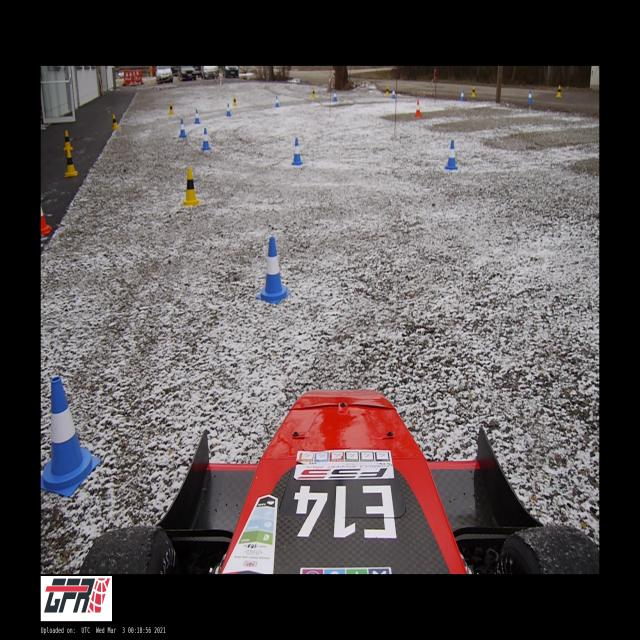blue_cone: (41, 378, 100, 497), (256, 237, 291, 304), (445, 140, 458, 170), (292, 138, 303, 165), (202, 128, 210, 150), (180, 120, 186, 138), (194, 109, 200, 123), (226, 104, 232, 115), (528, 90, 532, 102), (275, 96, 279, 107), (333, 90, 337, 101), (460, 90, 464, 101), (392, 88, 396, 98)
orange_cone: (40, 205, 50, 233), (414, 100, 421, 116)
yellow_cone: (181, 168, 201, 206), (65, 148, 78, 176), (63, 130, 73, 150), (112, 114, 118, 129), (168, 102, 174, 115), (556, 85, 562, 97), (232, 95, 237, 106), (472, 86, 476, 97), (312, 87, 316, 98), (386, 86, 390, 96)
